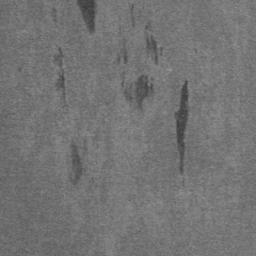Iron scale compression: (176, 82, 190, 174), (124, 74, 153, 114), (70, 144, 85, 186), (78, 0, 97, 31), (145, 32, 162, 63), (55, 51, 65, 103)
